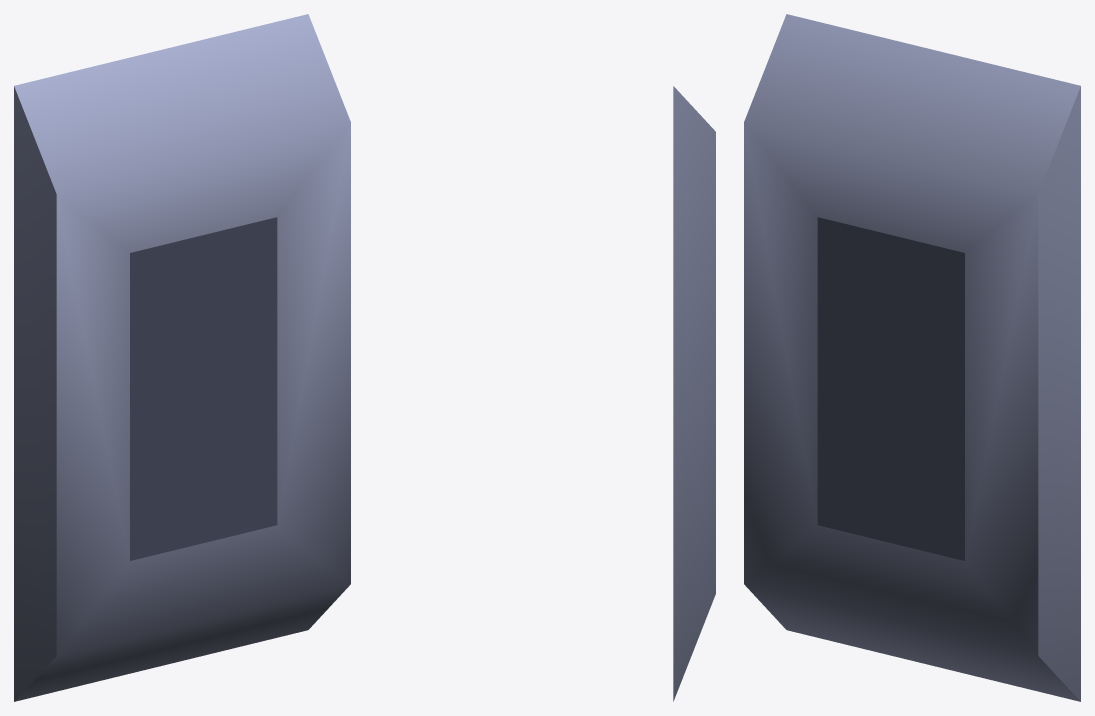
File: wall-switch.glb
3 renders of one model, left to right at view 1: azimuth 30°, elevation 25°; view 2: azimuth 150°, elevation 25°; view 3: azimuth 330°, elevation 25°, orthographic.
Visible parts, largest first — view 1: wall-switch; view 2: wall-switch; view 3: wall-switch.
Part boxes in pixels (box(x1,y1,x2,y2)): wall-switch: box(14, 14, 350, 701); wall-switch: box(673, 86, 715, 701); wall-switch: box(744, 14, 1080, 701).
Size of the model in its own units: 0.1 by 0.2 by 0.025.
